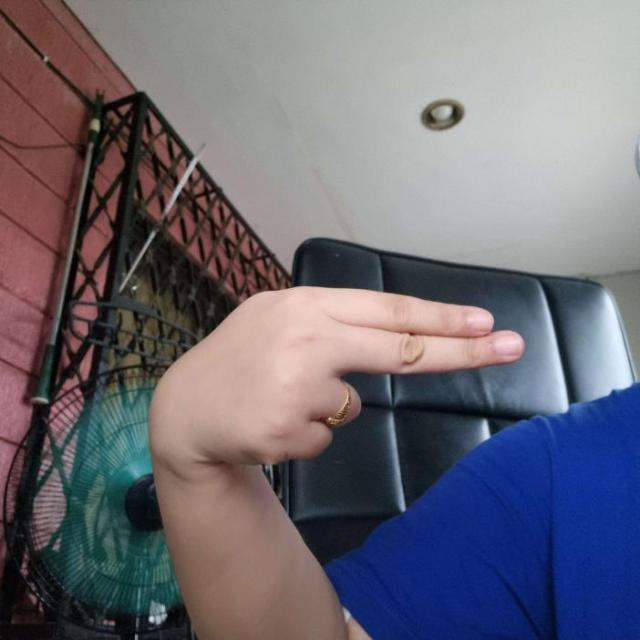H: (154, 286, 524, 466)
